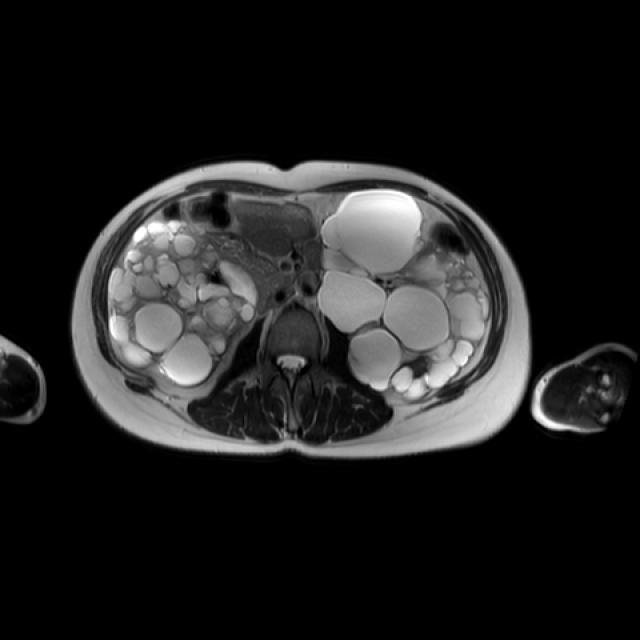sag: (110, 220, 256, 388)
sol: (320, 188, 492, 400)
